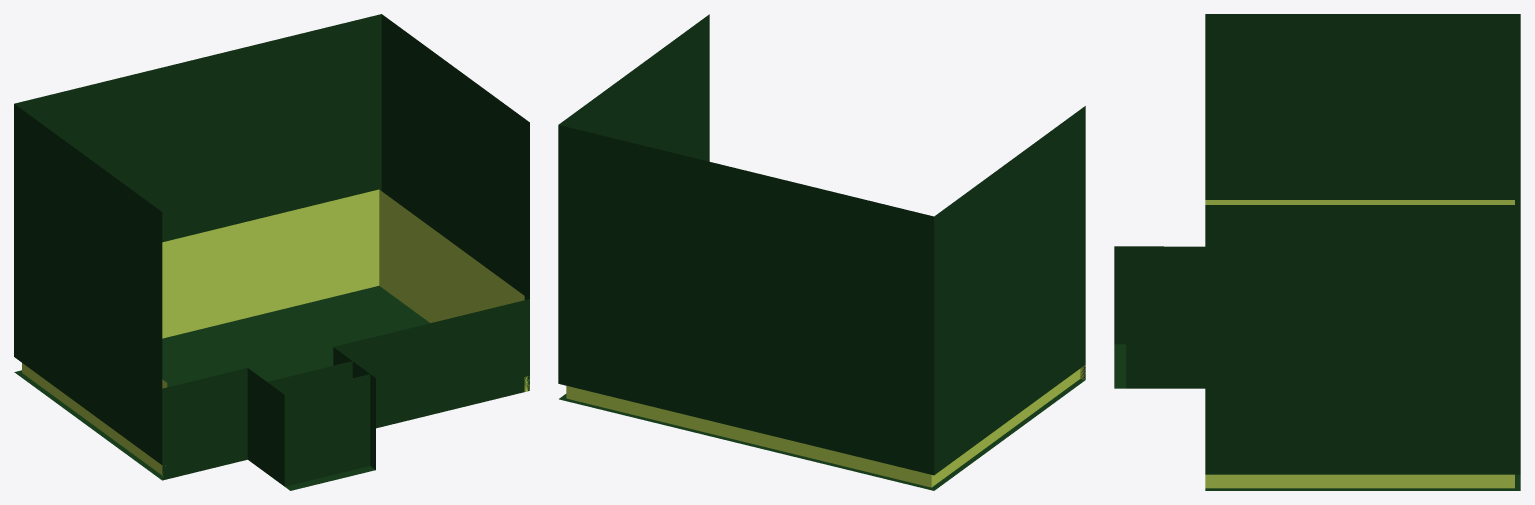
The model's file is room.dae.
The picture shows the model from 3 angles, left to right: view 1: azimuth 30°, elevation 25°; view 2: azimuth 150°, elevation 25°; view 3: azimuth 270°, elevation 25°; orthographic projection. The views are drawn at different scales.
Parts seen in each view (by area): view 1: Cube, Cube.001, door-area; view 2: Cube, Cube.001; view 3: Cube, Cube.001, door-area.
Boxes of the visible parts, bbox=[...] form: Cube: bbox=[14, 14, 529, 477]; Cube.001: bbox=[14, 189, 529, 486]; door-area: bbox=[267, 361, 375, 490]; Cube: bbox=[558, 14, 1085, 486]; Cube.001: bbox=[559, 365, 1085, 490]; Cube: bbox=[1205, 14, 1520, 488]; Cube.001: bbox=[1126, 200, 1520, 490]; door-area: bbox=[1114, 246, 1163, 388].
Size of the model in its own units: 5.73 by 5.15 by 4.
